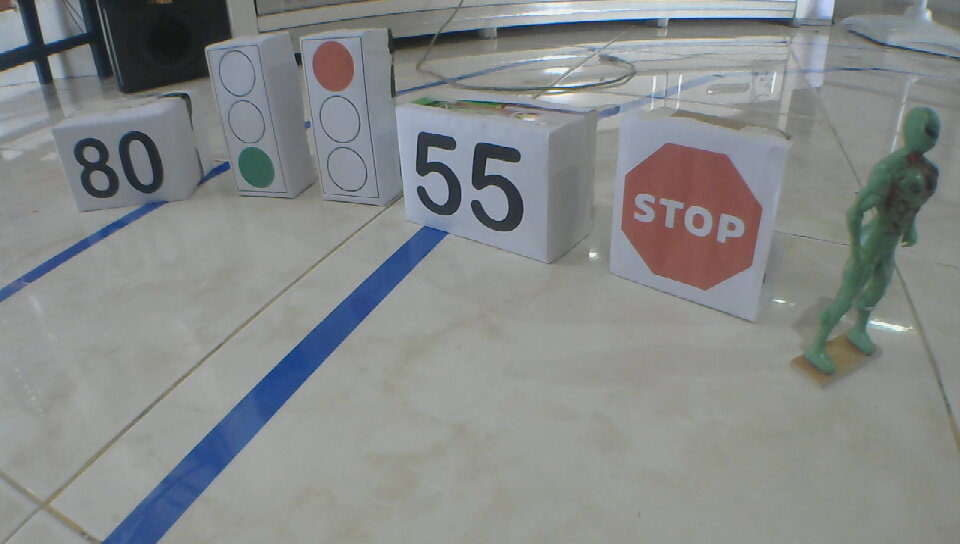Green Light: (215, 49, 277, 191)
Person: (796, 101, 945, 378)
Red Light: (310, 39, 368, 195)
Speed 55: (410, 131, 528, 233)
Speed 80: (71, 131, 166, 201)
Stop: (620, 142, 761, 292)
